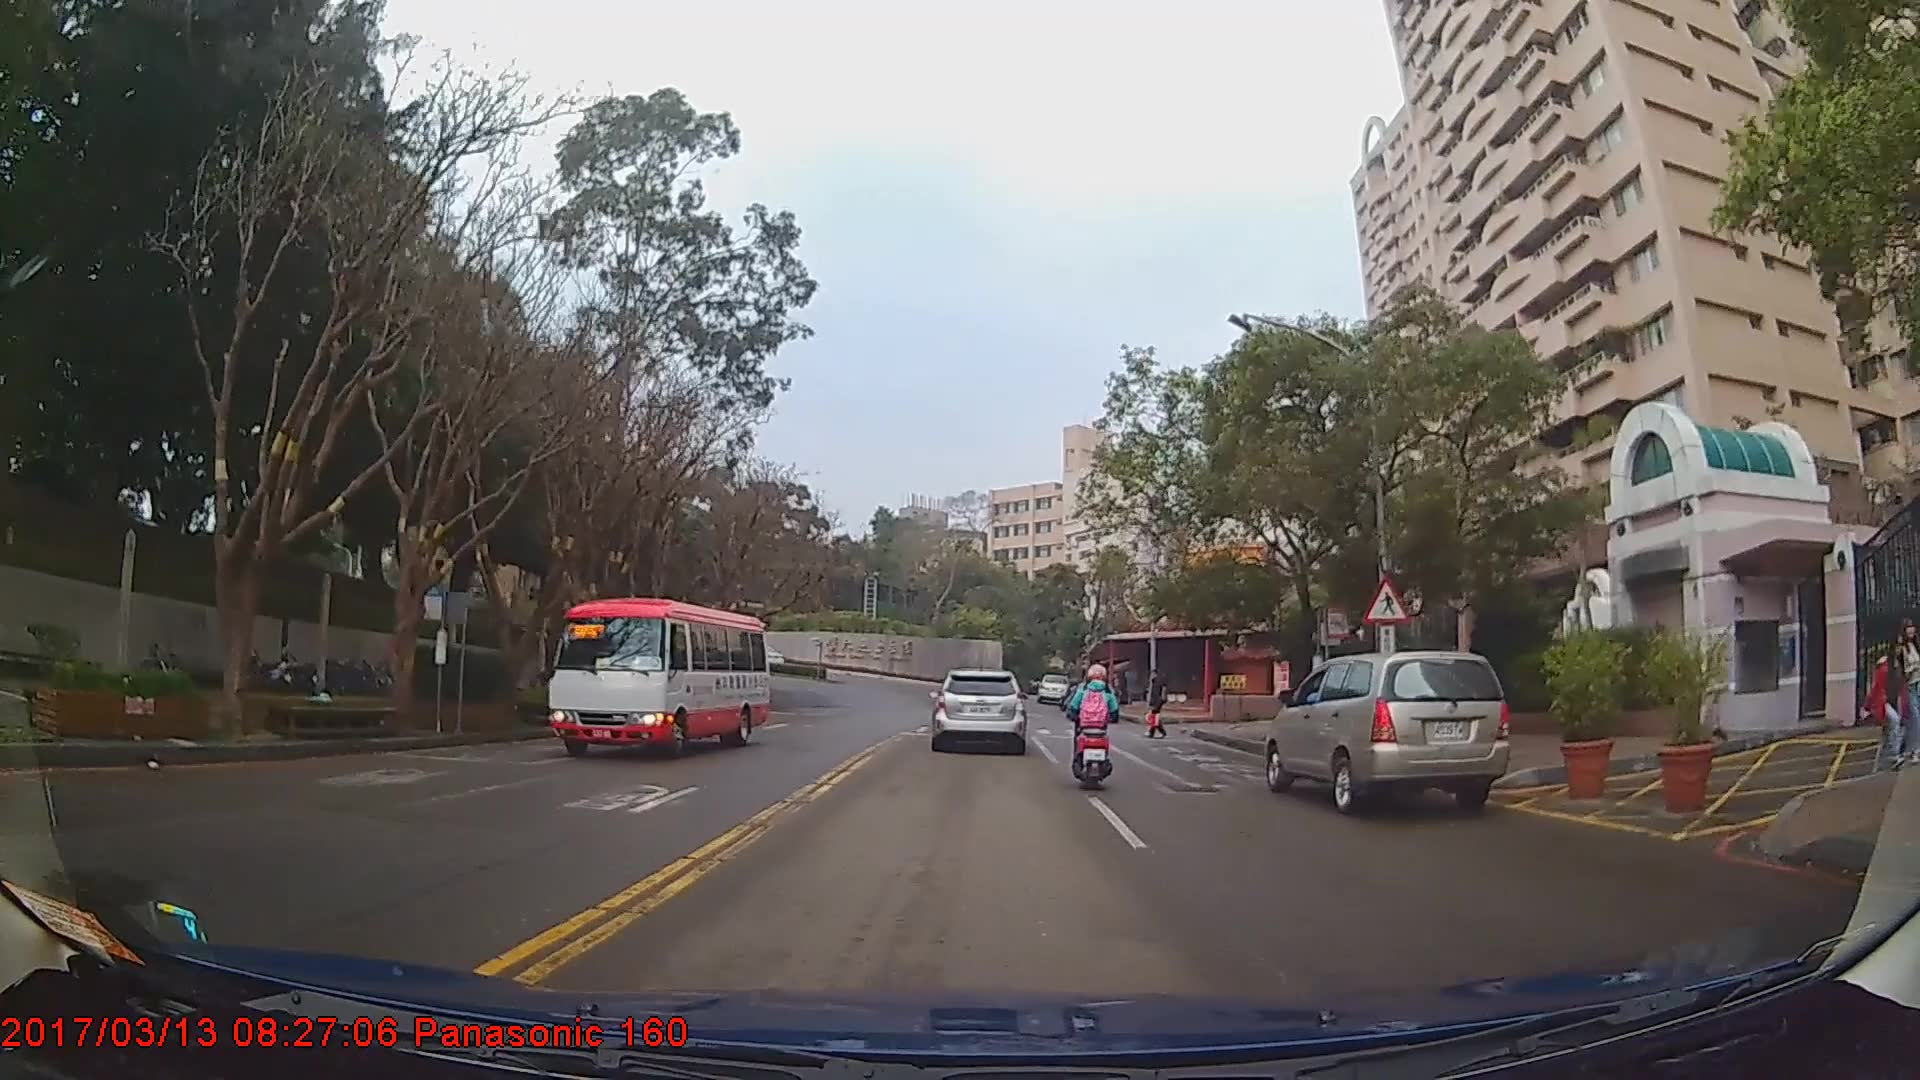pedestrian: (1854, 624, 1915, 791), (1885, 607, 1920, 781), (1144, 668, 1171, 744)
rider: (1066, 664, 1122, 794)
vehicle: (1265, 648, 1511, 814), (542, 597, 768, 758), (927, 667, 1027, 755), (1035, 673, 1069, 702)
